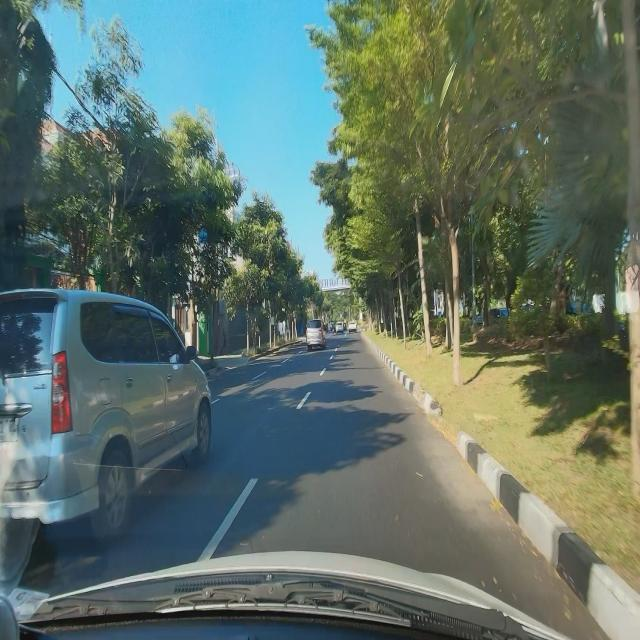car: (0, 270, 219, 547), (306, 318, 328, 352)
